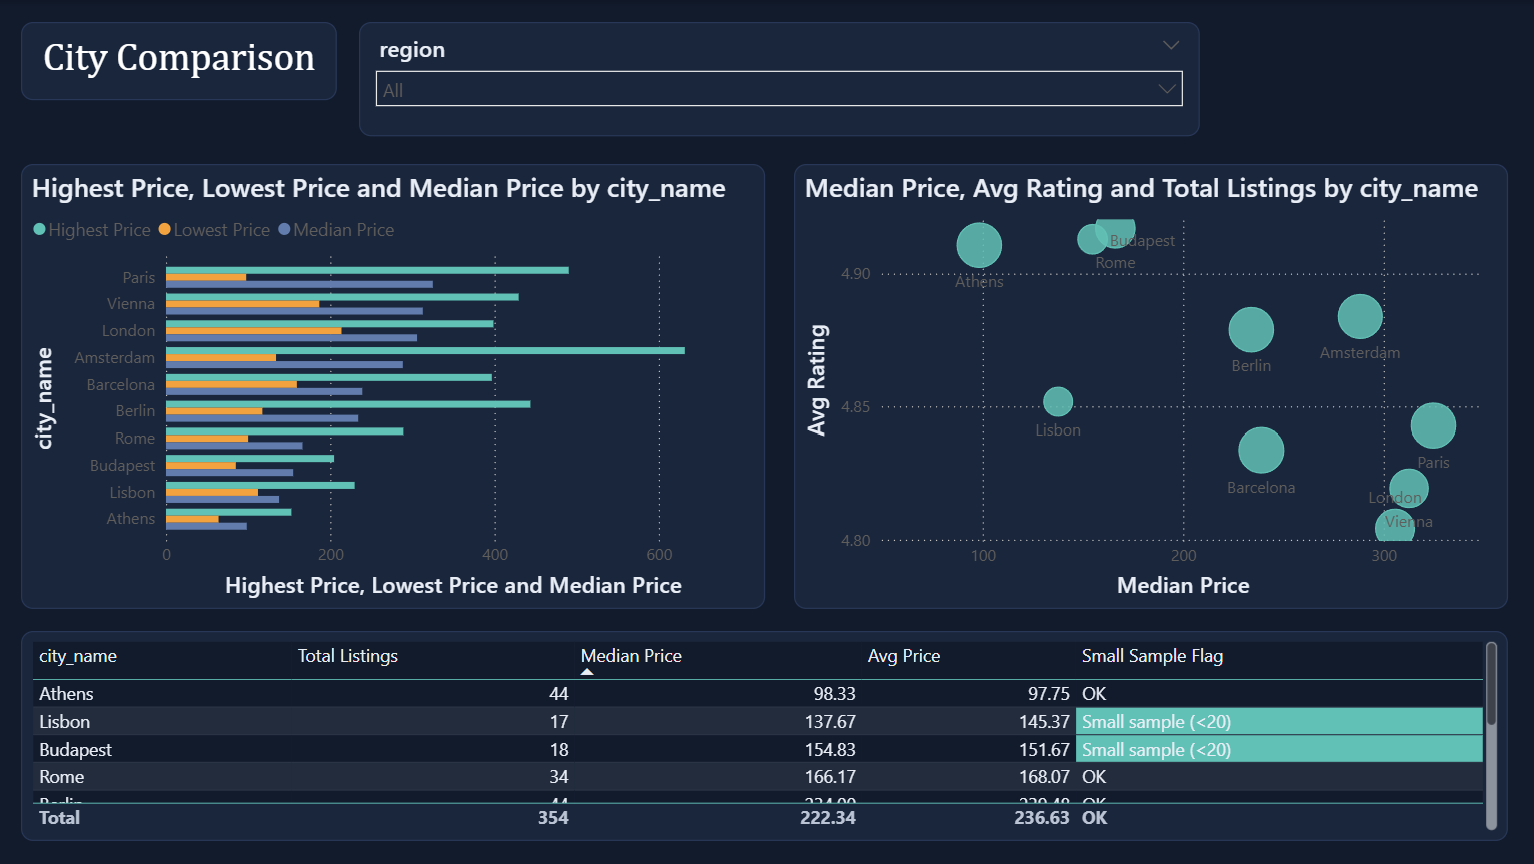

Layout of this report page (visuals, bound fields, positions):
{"tool":"powerbi","page":{"name":"City Comparison","canvas":[1280,720],"ordinal":1},"visuals":[{"type":"textbox","box":[21.6,18.3,262.6,64.8],"z":0},{"type":"slicer","fields":{"Values":["gold dim_city.region"]},"box":[302.5,18.3,698.2,94.8],"z":1000},{"type":"clusteredBarChart","fields":{"Category":["gold dim_city.city_name"],"Y":["gold dim_city.Highest Price","gold dim_city.Lowest Price","gold dim_city.Median Price"]},"box":[21.6,136.3,618.4,369],"z":2000},{"type":"scatterChart","fields":{"X":["gold dim_city.Median Price"],"Y":["gold dim_city.Avg Rating"],"Category":["gold dim_city.city_name"],"Size":["gold dim_city.Total Listings"]},"box":[663.3,136.3,593.5,369],"z":3000},{"type":"tableEx","fields":{"Values":["gold dim_city.city_name","gold dim_city.Total Listings","gold dim_city.Median Price","gold dim_city.Avg Price","gold dim_city.Small Sample Flag"]},"box":[21.6,523.6,1235.1,174.5],"z":4000}]}

Visuals, with their boxes in screenshot pixels (x1, y1, x2, y2), scaled from the page's 1280x720 canvas onto the 1534x864 screenshot:
textbox: {"x1": 26, "y1": 22, "x2": 341, "y2": 100}
slicer - gold dim_city.region: {"x1": 363, "y1": 22, "x2": 1199, "y2": 136}
clusteredBarChart - gold dim_city.city_name x gold dim_city.Highest Price: {"x1": 26, "y1": 164, "x2": 767, "y2": 606}
scatterChart - gold dim_city.Median Price x gold dim_city.Avg Rating: {"x1": 795, "y1": 164, "x2": 1506, "y2": 606}
tableEx - gold dim_city.city_name x gold dim_city.Total Listings: {"x1": 26, "y1": 628, "x2": 1506, "y2": 838}
